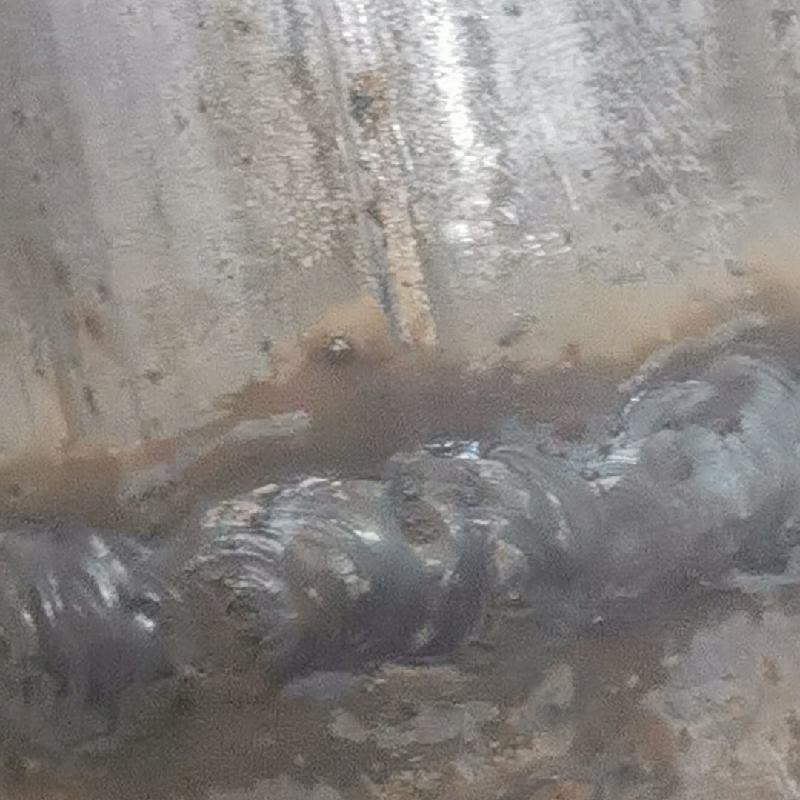good: (0, 338, 799, 704)
